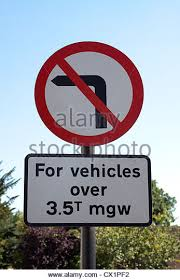No_left_turn: (34, 41, 144, 146)
